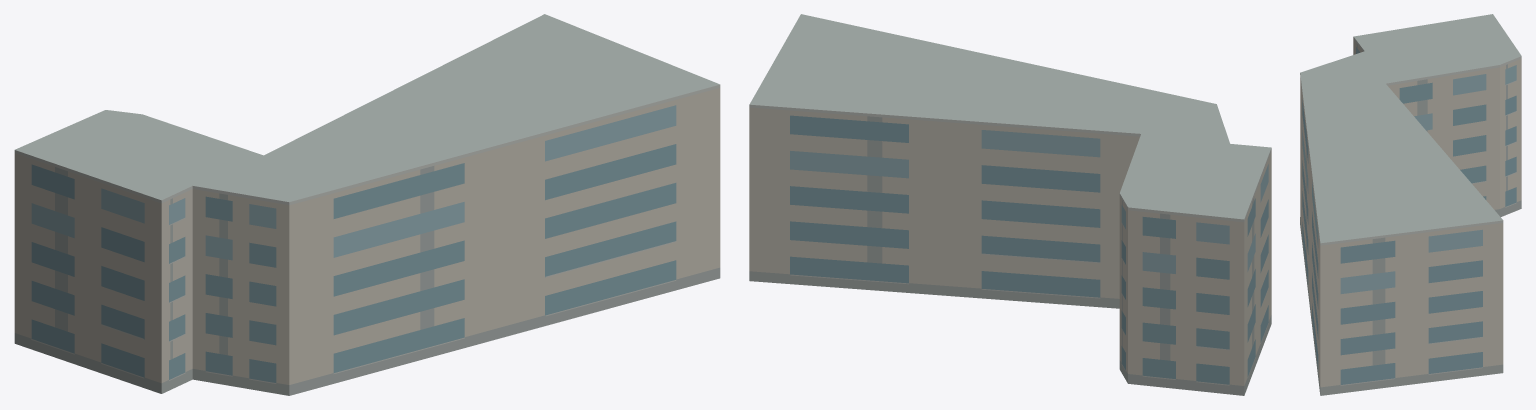
File: residential-56966c82-ec03-408a-ad61-2a0c43fc1a21.glb
3 views of the same model, side by side, from view 1: azimuth 30°, elevation 25°; view 2: azimuth 150°, elevation 25°; view 3: azimuth 270°, elevation 25° (orthographic). The views are drawn at different scales.
Parts seen in each view (by area): view 1: residential-56966c82-ec03-408a-ad61-2a0c43fc1a21.tmp; view 2: residential-56966c82-ec03-408a-ad61-2a0c43fc1a21.tmp; view 3: residential-56966c82-ec03-408a-ad61-2a0c43fc1a21.tmp.
Boxes of the visible parts, x1,y1,x2,y2 form: residential-56966c82-ec03-408a-ad61-2a0c43fc1a21.tmp: [14, 14, 720, 395]; residential-56966c82-ec03-408a-ad61-2a0c43fc1a21.tmp: [749, 14, 1271, 395]; residential-56966c82-ec03-408a-ad61-2a0c43fc1a21.tmp: [1300, 14, 1521, 395].
Bounding box in the file's own units: 49.13 × 15.25 × 20.07.
